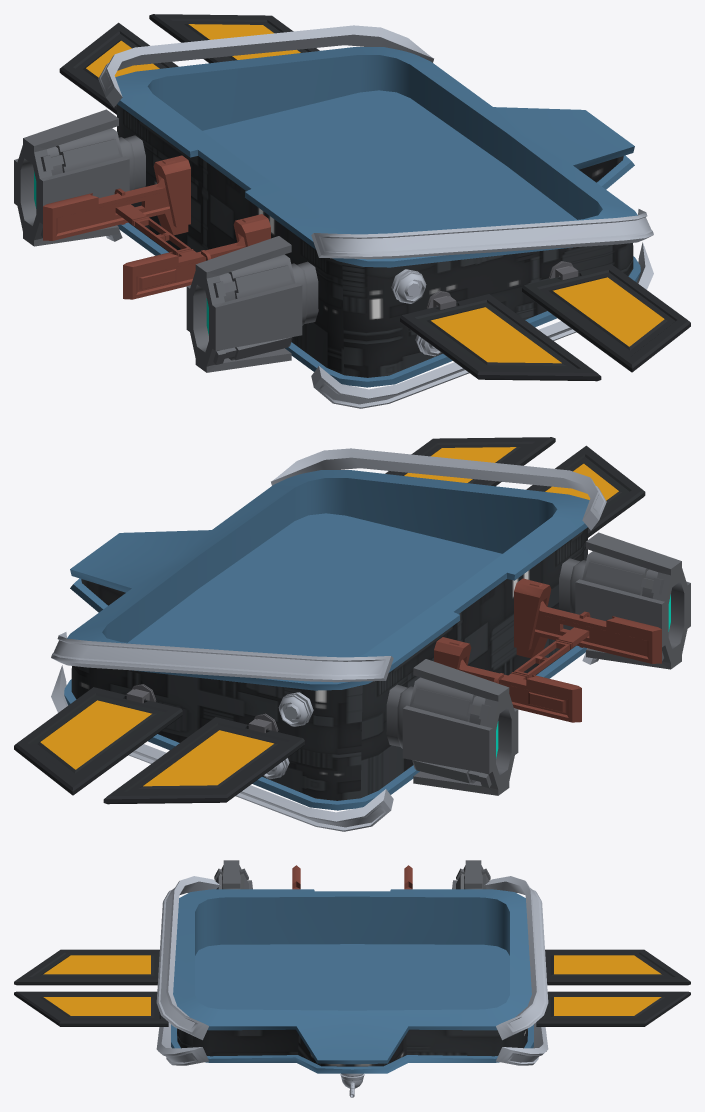
Rendered from flighterbody.fbx.
The picture shows the model from 3 angles, top to bottom: view 1: azimuth 30°, elevation 25°; view 2: azimuth 150°, elevation 25°; view 3: azimuth 270°, elevation 25°; orthographic projection. The views are drawn at different scales.
Parts seen in each view (by area): view 1: body; view 2: body; view 3: body.
Part boxes in pixels (box(x1,y1,x2,y2)): body: box(14, 14, 690, 408); body: box(14, 437, 690, 831); body: box(14, 860, 690, 1097).
Bounding box in the file's own units: 334 × 106 × 530.
